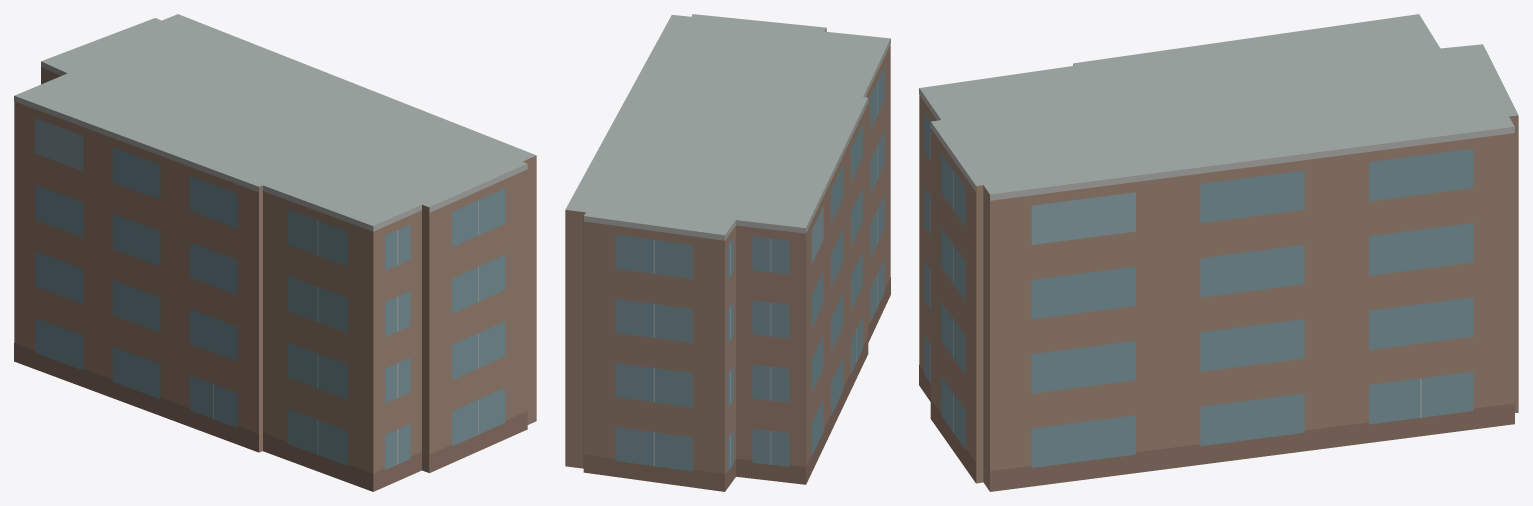
File: survey-upis-32666478.glb
3 views of the same model, side by side, from view 1: azimuth 30°, elevation 25°; view 2: azimuth 150°, elevation 25°; view 3: azimuth 270°, elevation 25° (orthographic). The views are drawn at different scales.
Parts seen in each view (by area): view 1: survey-upis-32666478.tmp; view 2: survey-upis-32666478.tmp; view 3: survey-upis-32666478.tmp.
Boxes of the visible parts, <box> form: survey-upis-32666478.tmp: <box>14,14,536,491</box>; survey-upis-32666478.tmp: <box>565,14,890,491</box>; survey-upis-32666478.tmp: <box>919,14,1518,491</box>.
Bounding box in the file's own units: 15.12 × 11.6 × 21.21.
